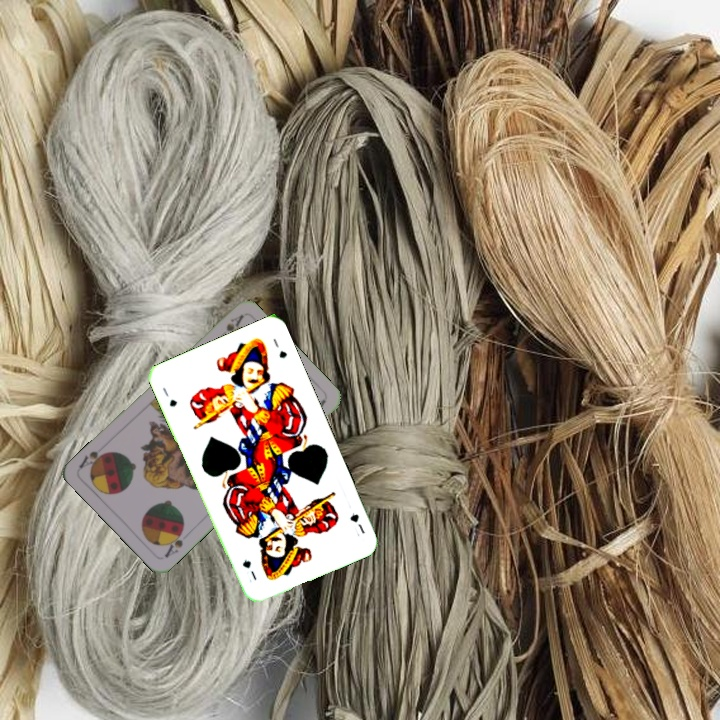GU: (346, 509, 368, 539), (158, 383, 180, 409)
SA: (160, 524, 187, 560), (222, 311, 246, 342)
